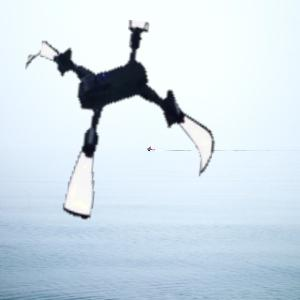drone: (16, 20, 221, 225)
